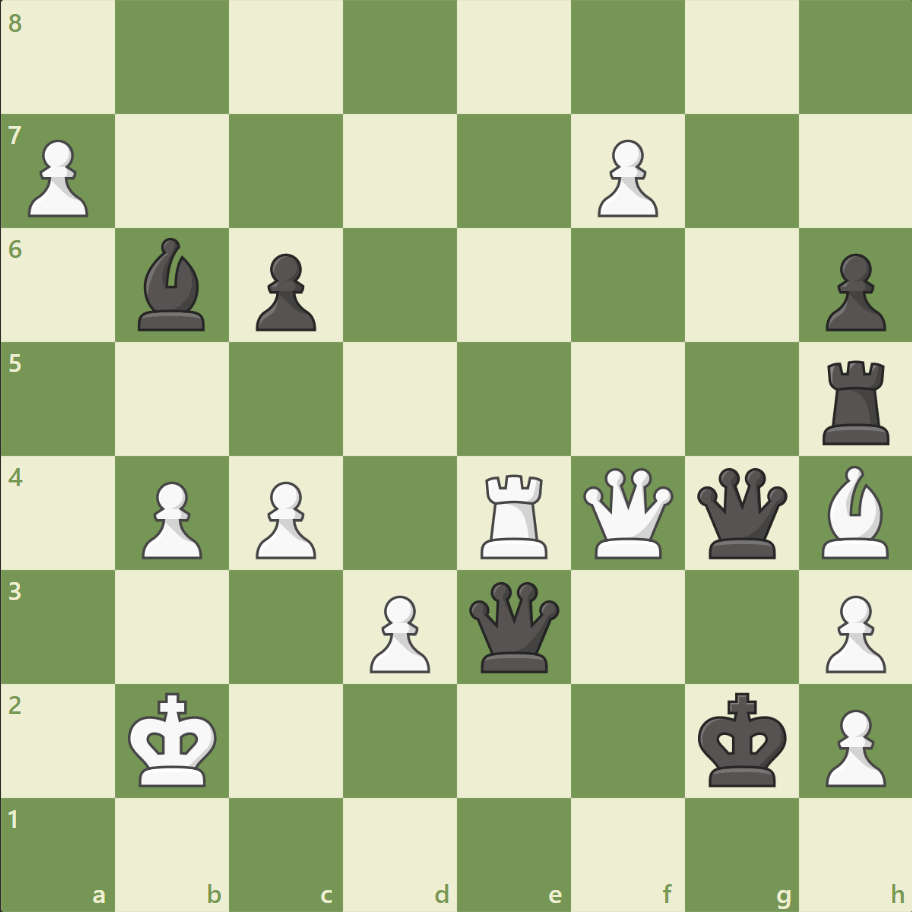B: (812, 460, 896, 563)
K: (124, 685, 224, 793)
P: (20, 132, 95, 223), (133, 473, 208, 564), (247, 473, 322, 564), (588, 132, 662, 223), (361, 586, 435, 677), (815, 586, 889, 677), (815, 700, 889, 791)
Q: (578, 463, 677, 562)
R: (473, 466, 556, 563)
b: (131, 233, 215, 336)
k: (692, 685, 792, 793)
p: (247, 246, 322, 337), (815, 246, 889, 337)
q: (464, 576, 563, 676), (691, 463, 790, 562)
r: (814, 352, 897, 449)
